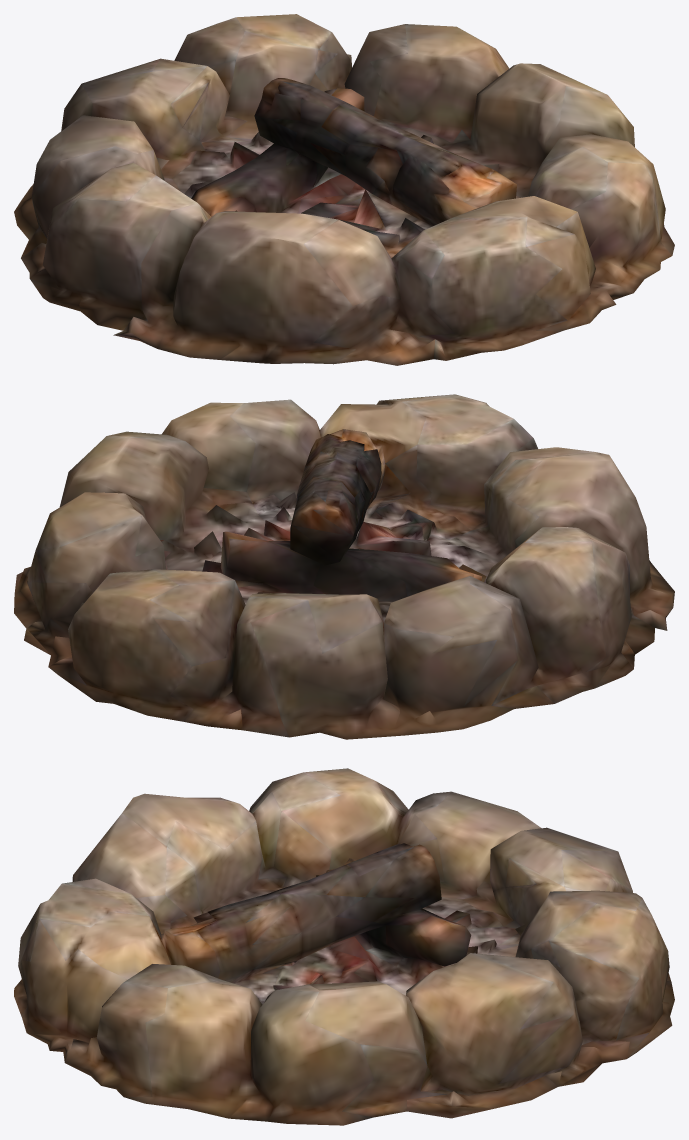
Rendered from prop-campfire-ring-v2-mobile.glb.
The picture shows the model from 3 angles, top to bottom: view 1: azimuth 30°, elevation 25°; view 2: azimuth 150°, elevation 25°; view 3: azimuth 270°, elevation 25°; orthographic projection.
Parts seen in each view (by area): view 1: tripo_node_87fe188c-17d4-44e6-b6db-b6047d940803; view 2: tripo_node_87fe188c-17d4-44e6-b6db-b6047d940803; view 3: tripo_node_87fe188c-17d4-44e6-b6db-b6047d940803.
Boxes of the visible parts, bbox=[...] form: tripo_node_87fe188c-17d4-44e6-b6db-b6047d940803: bbox=[14, 14, 674, 365]; tripo_node_87fe188c-17d4-44e6-b6db-b6047d940803: bbox=[14, 394, 674, 739]; tripo_node_87fe188c-17d4-44e6-b6db-b6047d940803: bbox=[14, 768, 674, 1125].
Bounding box in the file's own units: 0.9723 × 0.225 × 0.9647.
Materials: 1 (1 with a texture image).
